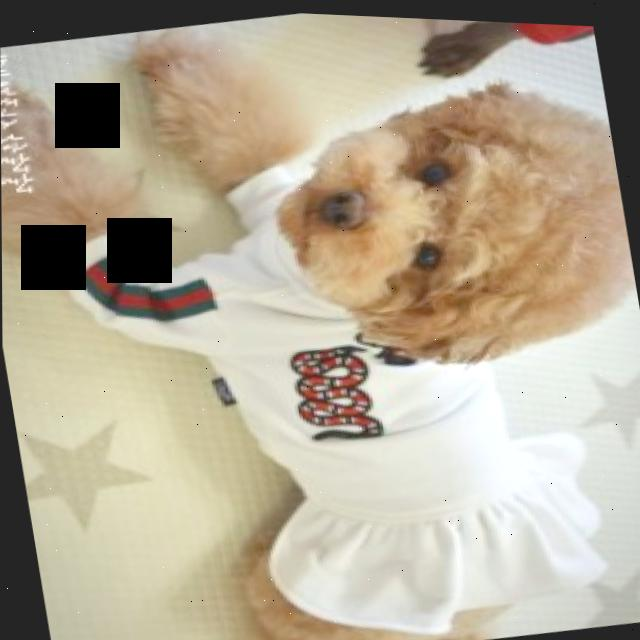cloth: (57, 162, 603, 630)
